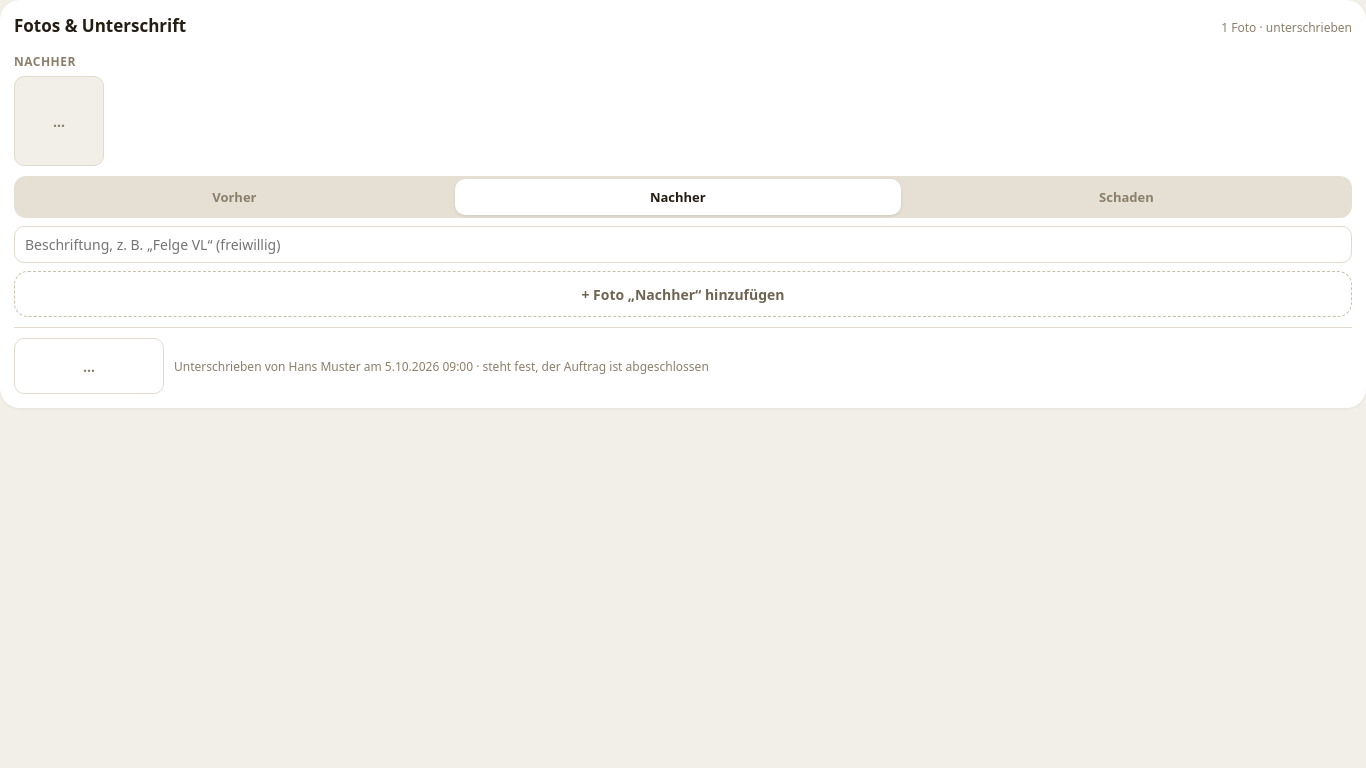
FotoBlock › abgeschlossen und unterschrieben: kein neues Unterschreiben, kein Löschen der Unterschrift (Migration 70)
Expected: the text "steht fest, der Auftrag ist abgeschlossen" is shown, [473, 358, 709, 374]
Expected: the button "+ Foto „Nachher“ hinzufügen" is shown, [14, 271, 1352, 317]
Click the button named "Unterschrift: Hans Muster," at point(89, 366), box [14, 338, 164, 394]
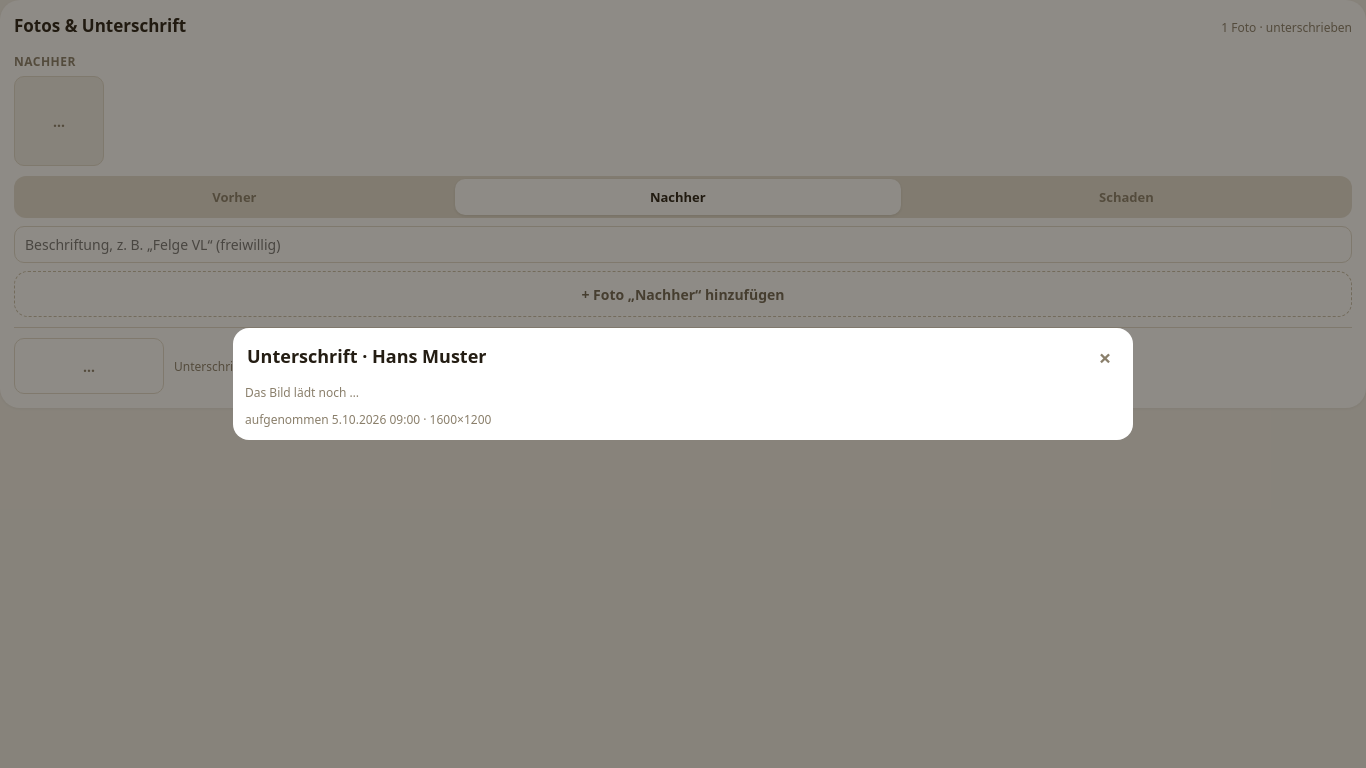
Expected: the button "Löschen" is not shown
Click the button named "Schließen" at point(1105, 357), box [1089, 341, 1121, 373]
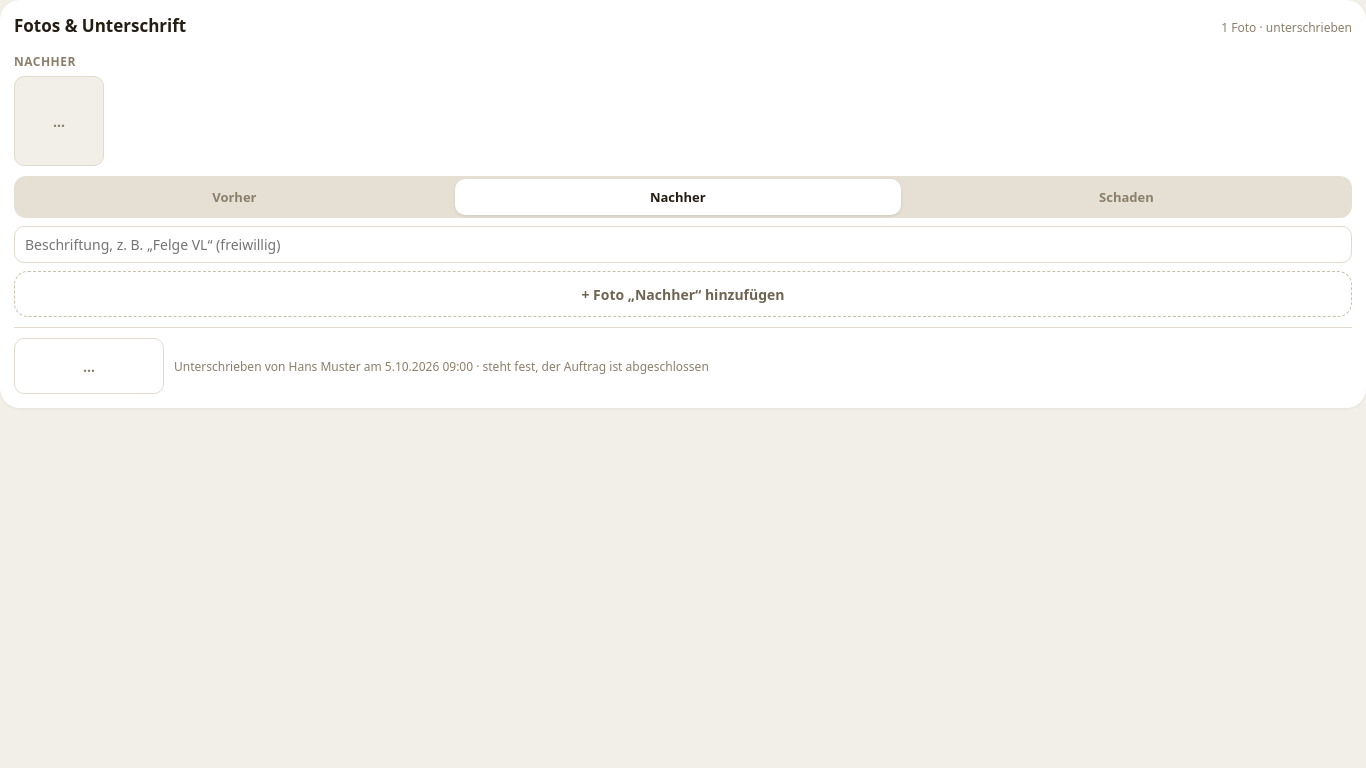
Click the button named "Nachher," at point(59, 121), box [14, 76, 104, 166]
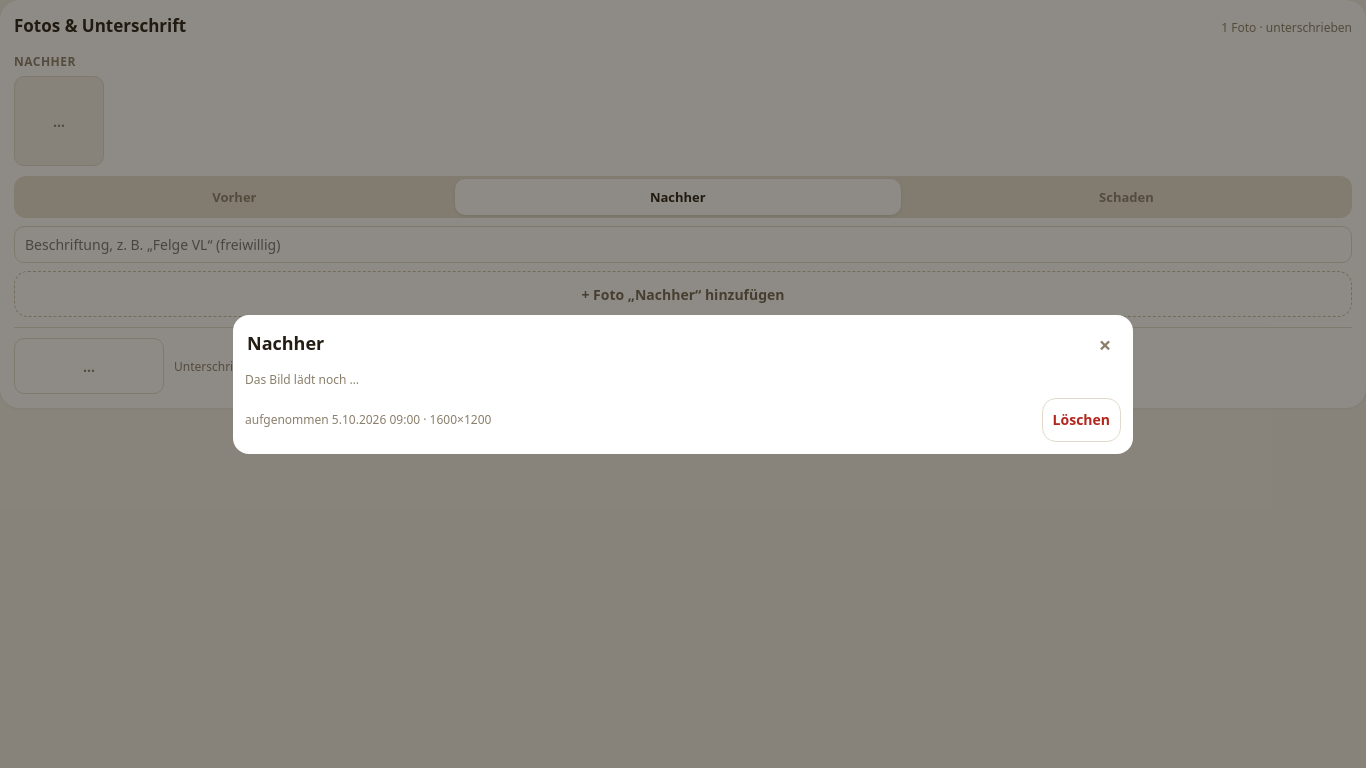
Expected: the button "Löschen" is shown, [1042, 398, 1121, 442]
